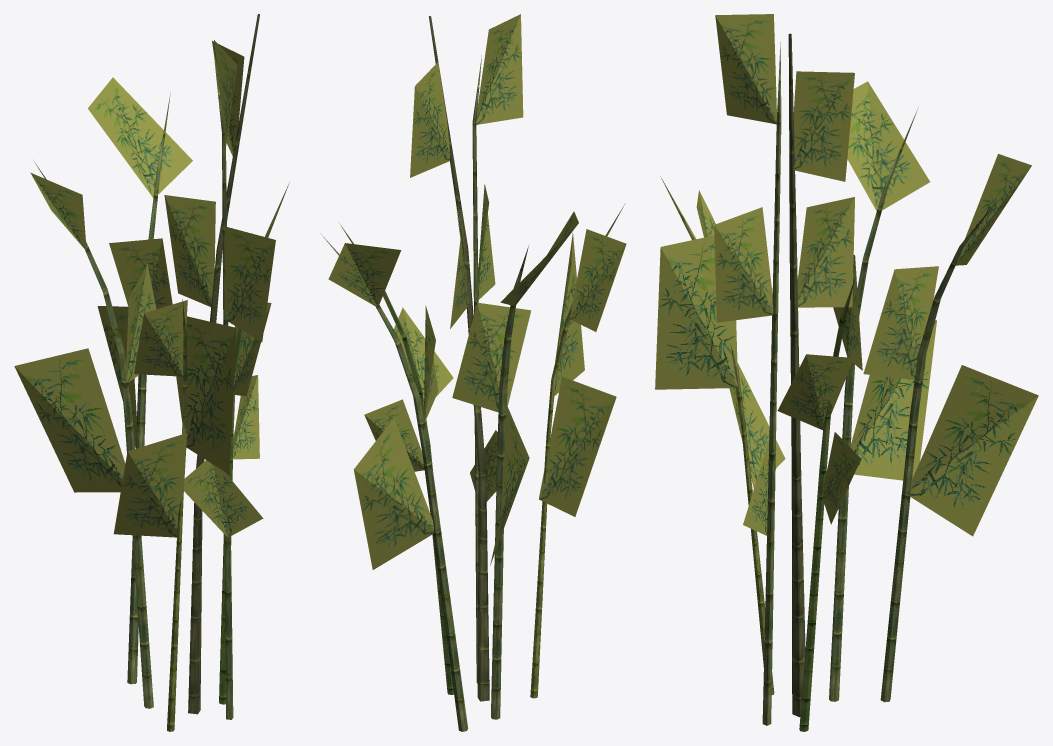
File: zhuzi_68.FBX
3 views of the same model, side by side, from view 1: azimuth 30°, elevation 25°; view 2: azimuth 150°, elevation 25°; view 3: azimuth 270°, elevation 25° (orthographic). The views are drawn at different scales.
Visible parts, largest first — view 1: zhuzi_68; view 2: zhuzi_68; view 3: zhuzi_68.
Boxes of the visible parts, x1,y1,x2,y2 form: zhuzi_68: [14, 14, 289, 731]; zhuzi_68: [320, 14, 626, 731]; zhuzi_68: [655, 14, 1038, 731].
Bounding box in the file's own units: 424 × 1093 × 535.
